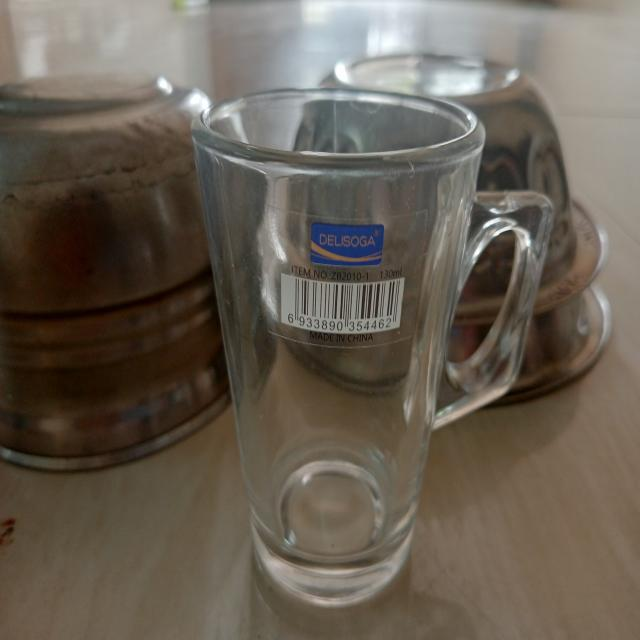glass-VX4N: (184, 88, 550, 600)
